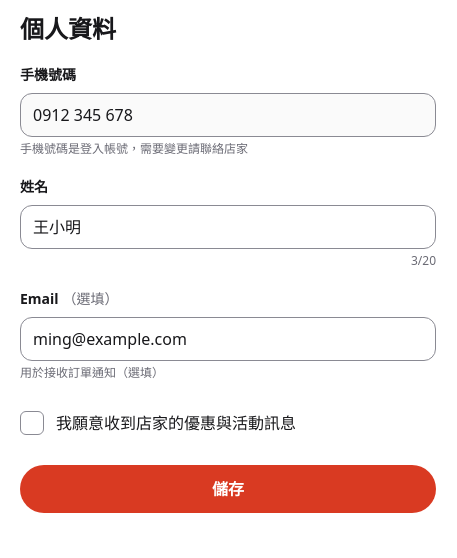
ProfilePage › 伺服器欄位錯誤（VALIDATION_FAILED details）對應到欄位
Replace the text in the field labelled "Email（選填）" with "other@example.com": x=228, y=339 [20,317,436,361]
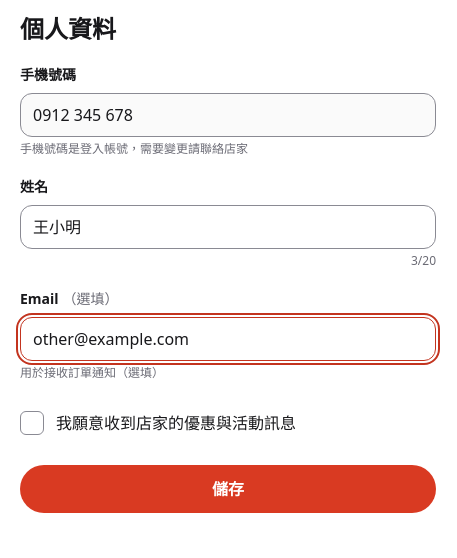
Click the button "儲存": x=228, y=489 [20,465,436,513]
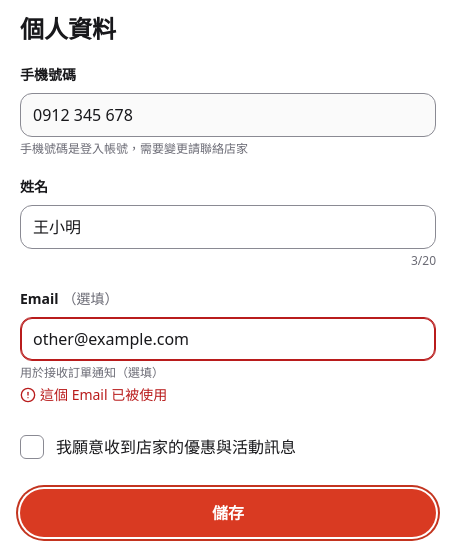
Expected: the text "這個 Email 已被使用" is shown, [40,385,167,405]
